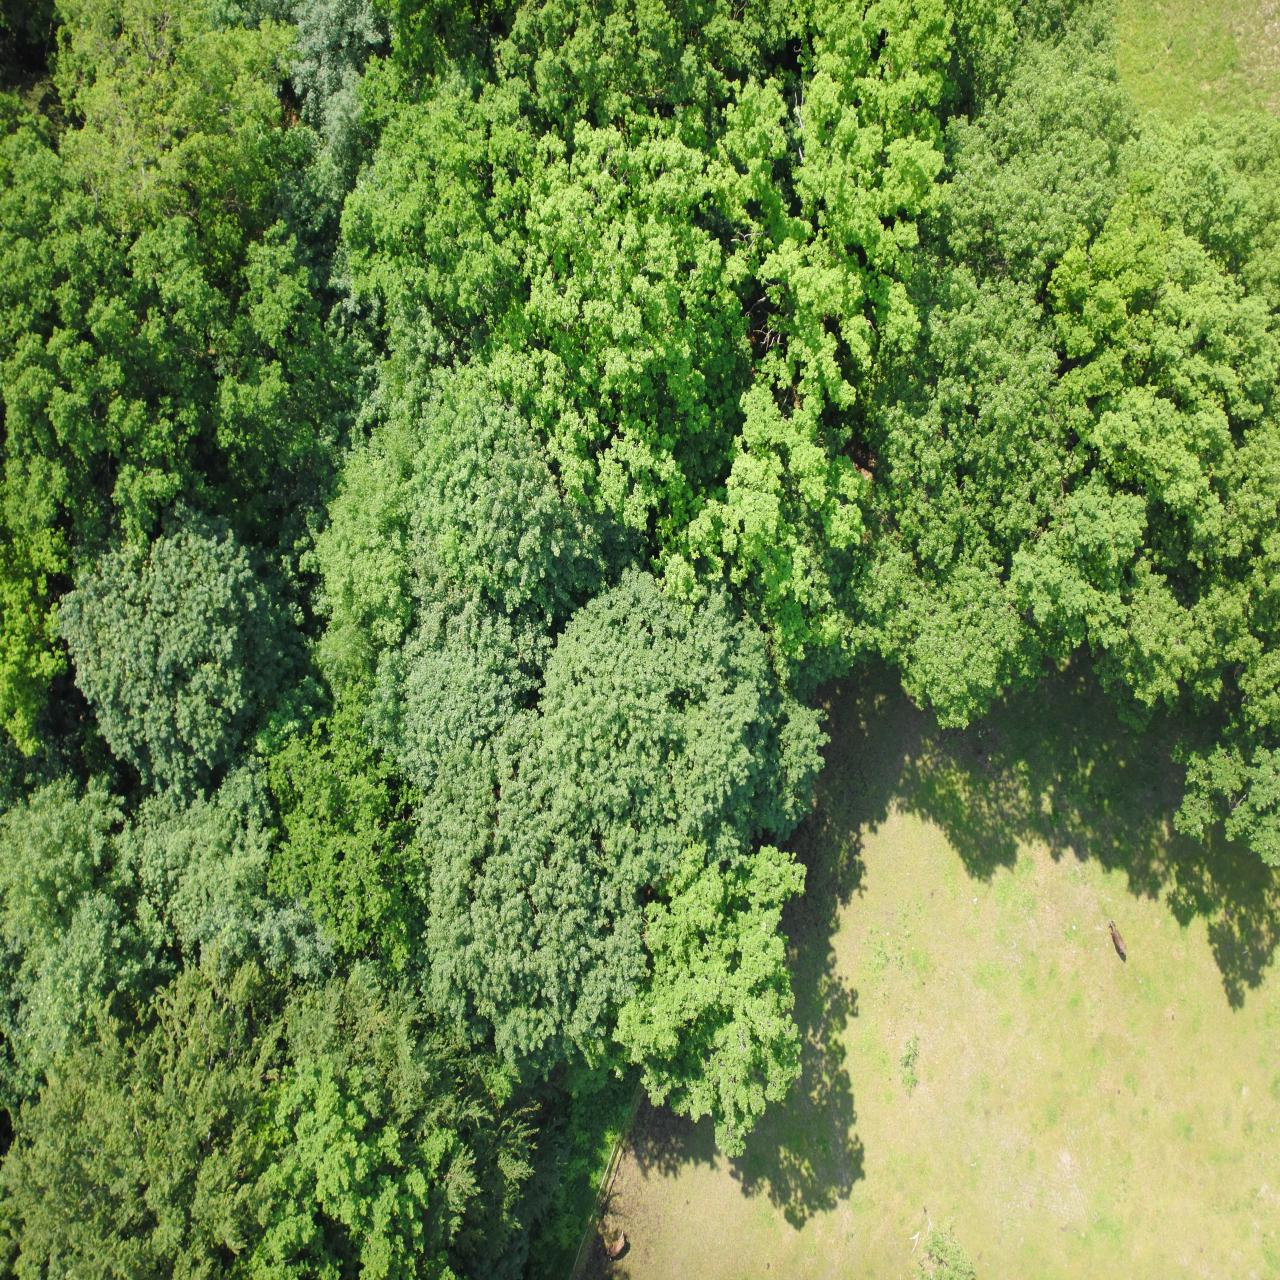cow: (154, 325, 171, 362)
